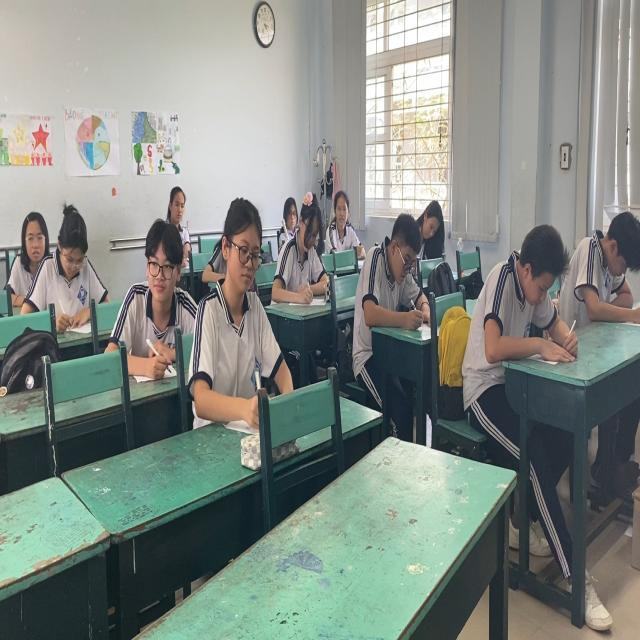cheating: (121, 220, 197, 359)
not_cheating: (205, 195, 282, 407), (482, 220, 568, 362), (37, 200, 109, 320), (362, 217, 424, 324), (278, 175, 330, 292), (12, 210, 58, 276), (327, 186, 366, 248), (418, 192, 448, 258), (165, 183, 192, 230)
